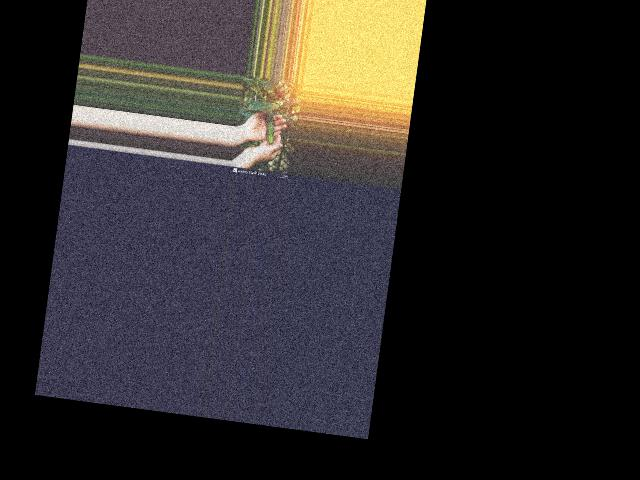cucumber: (262, 112, 277, 144)
